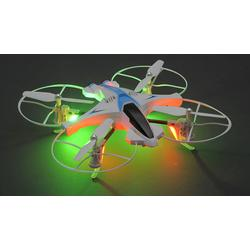drone: (17, 60, 233, 181)
